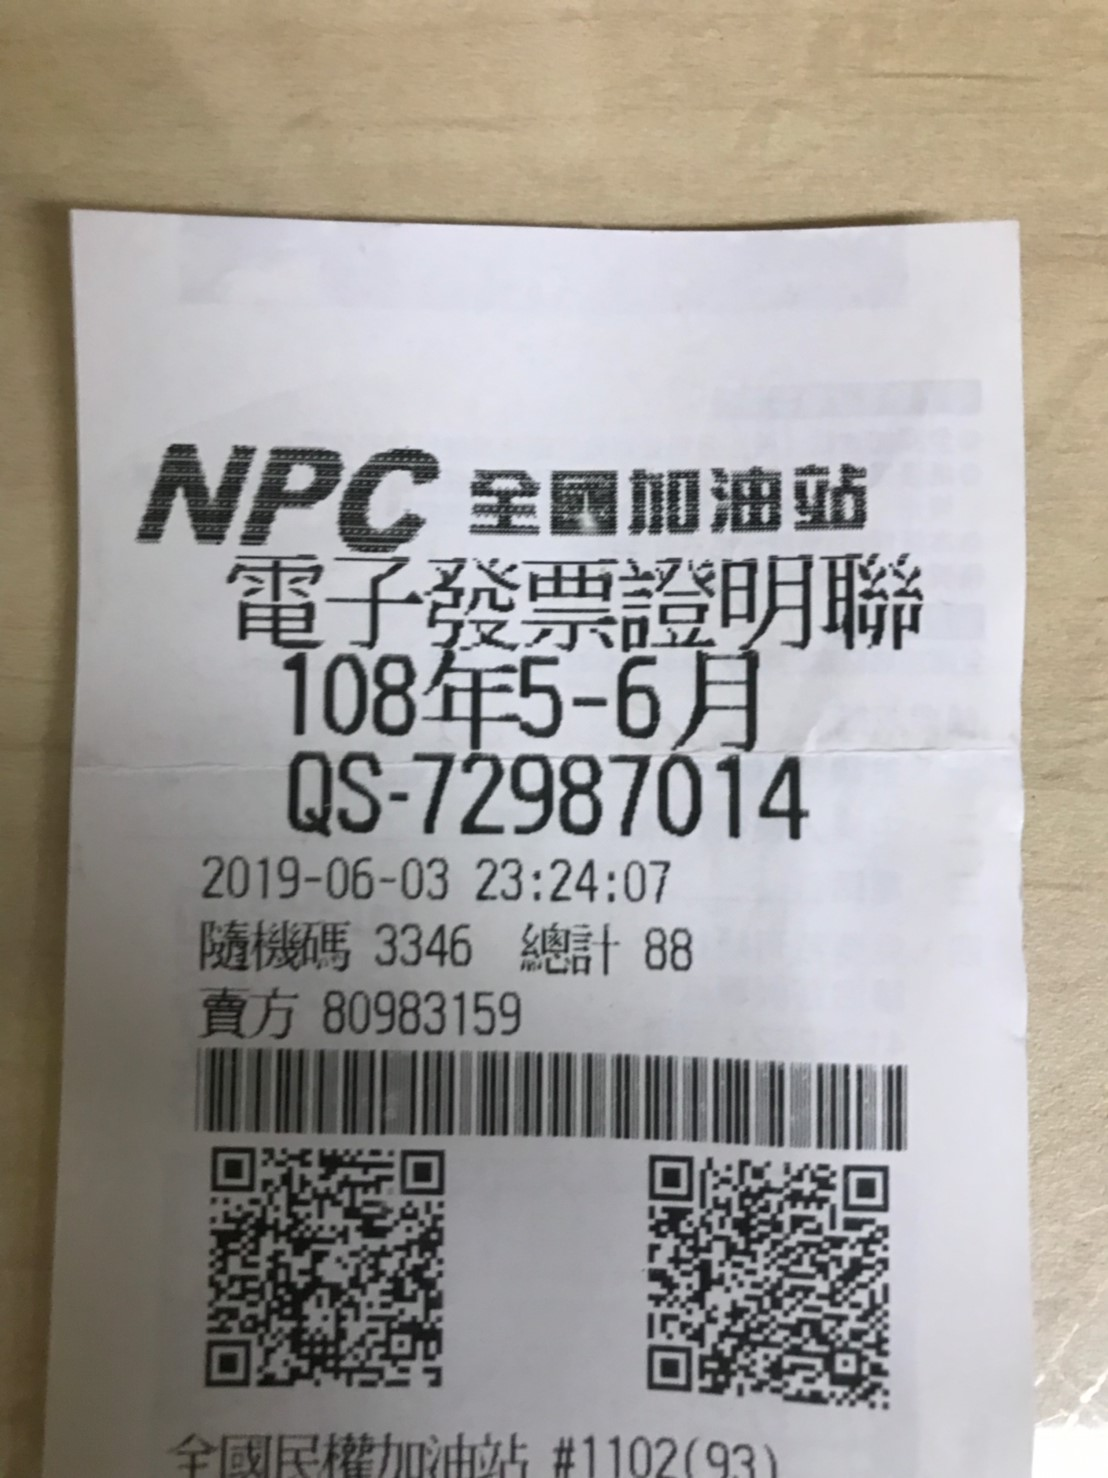Date_New: (283, 649, 766, 753)
Number_New: (411, 748, 818, 841)
